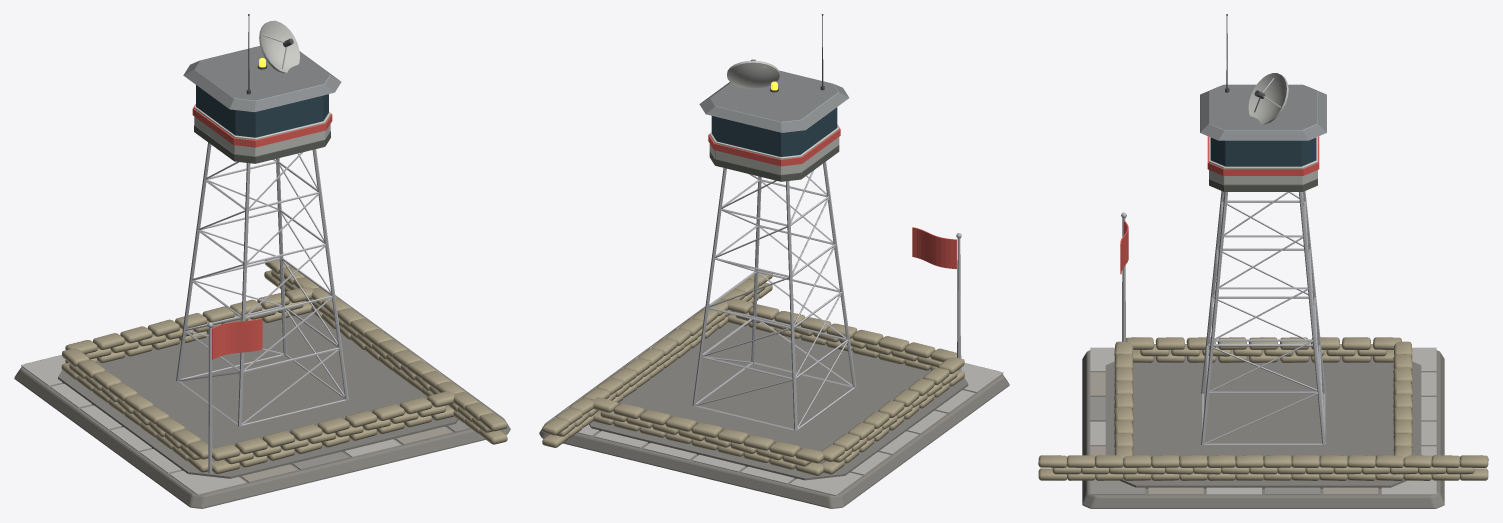
Rendered from observation_post_red.glb.
3 renders of one model, left to right at view 1: azimuth 30°, elevation 25°; view 2: azimuth 150°, elevation 25°; view 3: azimuth 270°, elevation 25°, orthographic. The views are drawn at different scales.
Parts seen in each view (by area): view 1: Body; view 2: Body; view 3: Body.
Part boxes in pixels (x1=…): Body: x1=14, y1=14, x2=510, y2=508; Body: x1=539, y1=14, x2=1009, y2=508; Body: x1=1038, y1=14, x2=1488, y2=508.
Size of the model in its own units: 5.98 by 7.34 by 7.42.
Materials: 1 (1 with a texture image).
